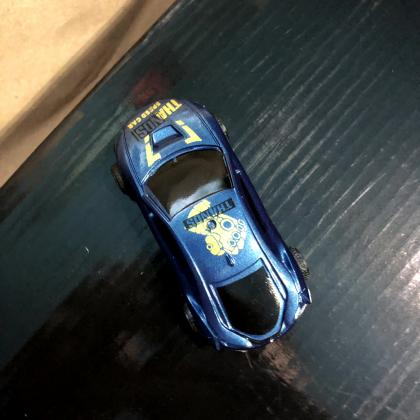Car: (109, 94, 316, 355)
